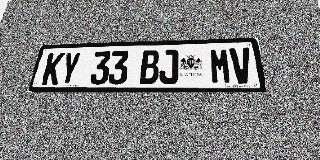3: (89, 51, 111, 85), (108, 51, 129, 85)
B: (139, 50, 160, 84)
J: (159, 49, 178, 84)
K: (41, 52, 65, 85)
M: (209, 48, 232, 84)
V: (229, 47, 254, 84)
Y: (58, 52, 81, 85)
